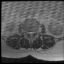CCS_normal: (30, 29, 32, 38)
LFS_normal: (33, 29, 36, 35)
LLS_normal: (32, 29, 33, 36)
RFS_normal: (26, 29, 28, 36)
RLS_normal: (28, 30, 30, 36)
